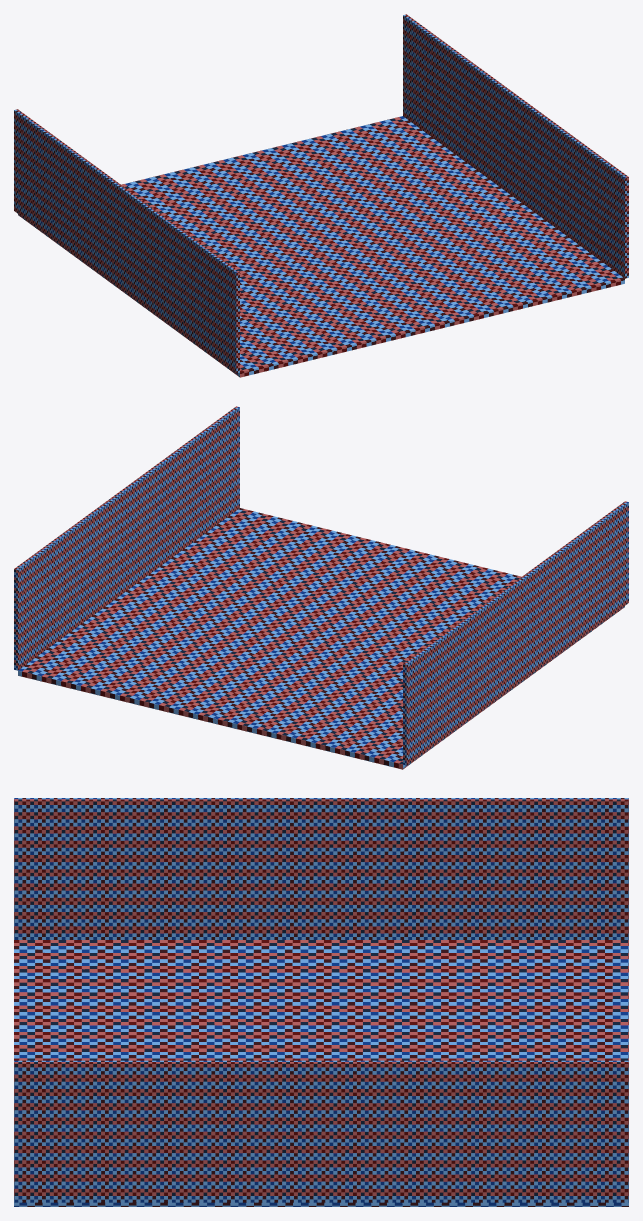
The model's file is catWalk_Large_rail_01.fbx.
3 renders of one model, top to bottom at view 1: azimuth 30°, elevation 25°; view 2: azimuth 150°, elevation 25°; view 3: azimuth 270°, elevation 25°, orthographic. The views are drawn at different scales.
Visible parts, largest first — view 1: catWalk_Large_rail_01; view 2: catWalk_Large_rail_01; view 3: catWalk_Large_rail_01.
Boxes of the visible parts, x1=… form: catWalk_Large_rail_01: x1=14, y1=14, x2=628, y2=377; catWalk_Large_rail_01: x1=14, y1=406, x2=628, y2=769; catWalk_Large_rail_01: x1=14, y1=798, x2=628, y2=1206.
Size of the model in its own units: 408 by 105 by 400.
1 material, 1 textured.
